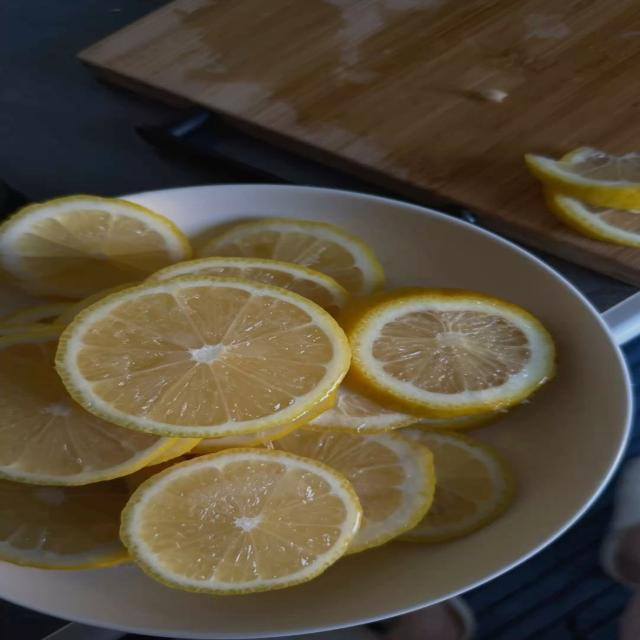lemon: (58, 276, 349, 437), (121, 449, 361, 594), (341, 288, 554, 417), (0, 328, 171, 485), (267, 428, 435, 552), (0, 196, 190, 297), (200, 219, 383, 296), (402, 426, 514, 542), (0, 479, 129, 569), (148, 257, 349, 314), (192, 394, 335, 454), (526, 148, 639, 210), (547, 192, 639, 247), (308, 387, 415, 433), (54, 283, 138, 326), (192, 423, 299, 454), (122, 456, 186, 493), (412, 411, 507, 431), (0, 302, 73, 324), (147, 438, 200, 466), (0, 322, 49, 337)
